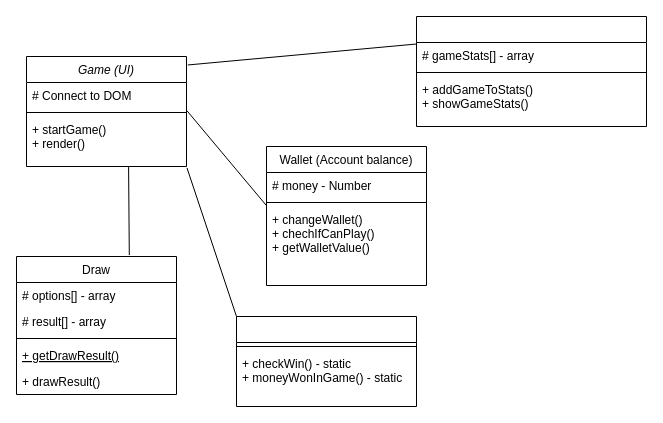
This 663x423 diagram has some shape labels left out. The shapes that lost their labels are listed below. From the top down, each one's box as (x1, y1, x2, y2) in pixels, then its label:
(416, 16, 646, 126): Statistics(Information about all players
(236, 316, 416, 406): Result
